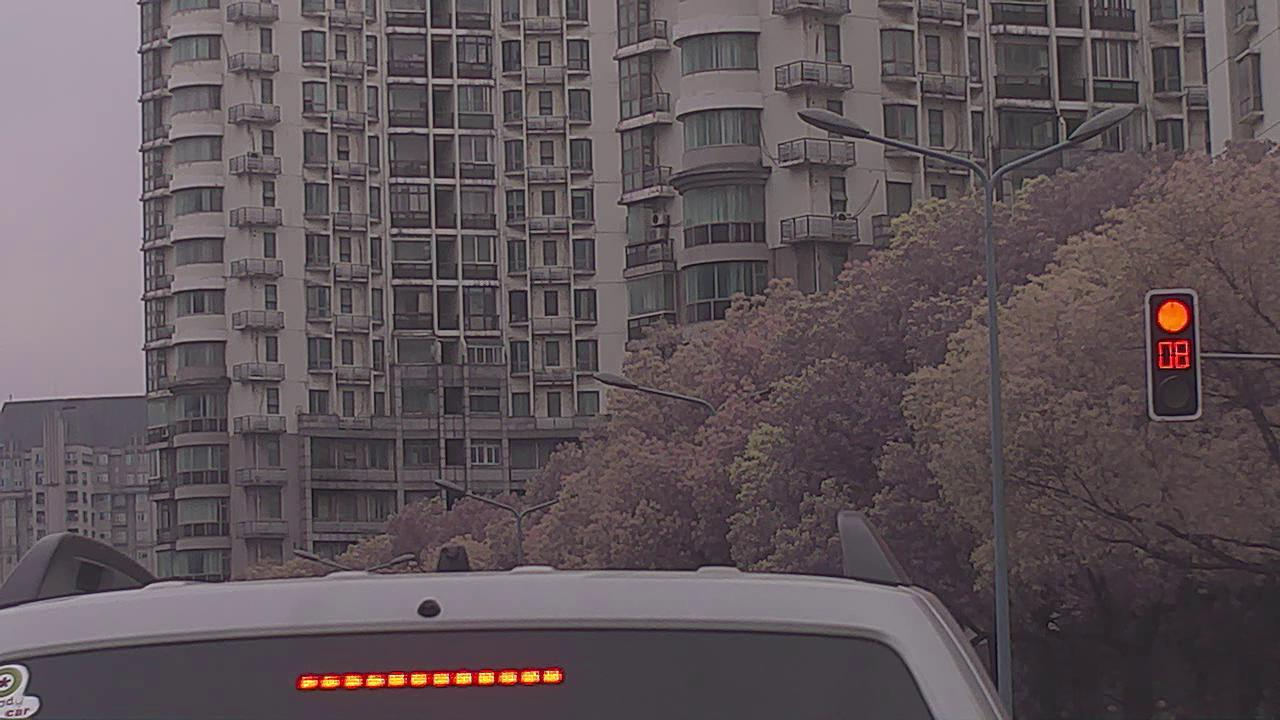traffic_light: (1147, 289, 1200, 421)
